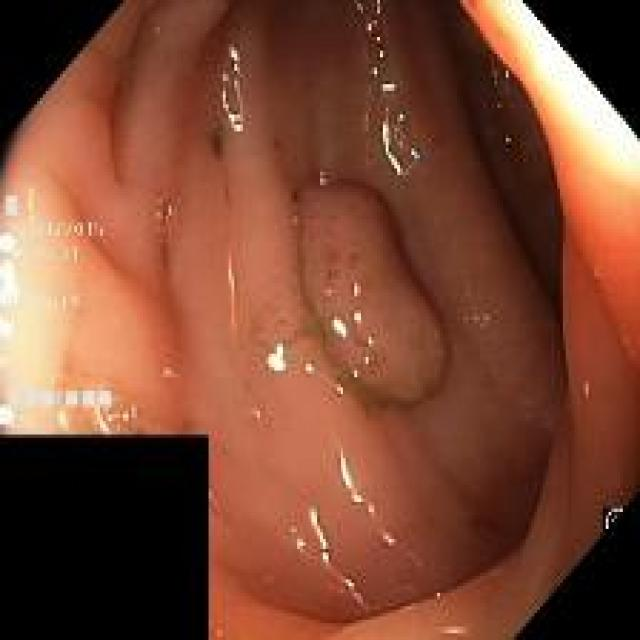Polyps: (298, 183, 446, 407)
